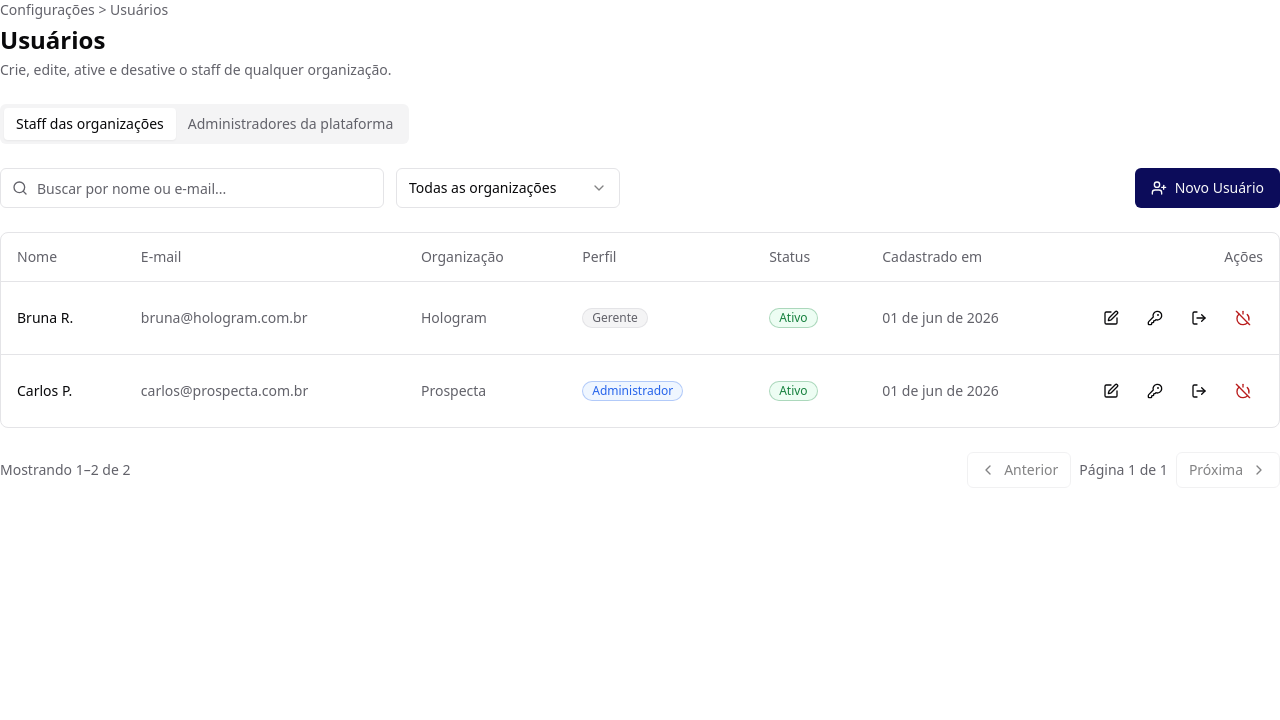
Test: Redefinir senha (86e3ewukz) — só a plataforma › senha curta para staff é barrada no formulário (mínimo 8)
Click the button named "Redefinir senha de Bruna R.": (1155, 318) left=1135, top=298, right=1175, bottom=338
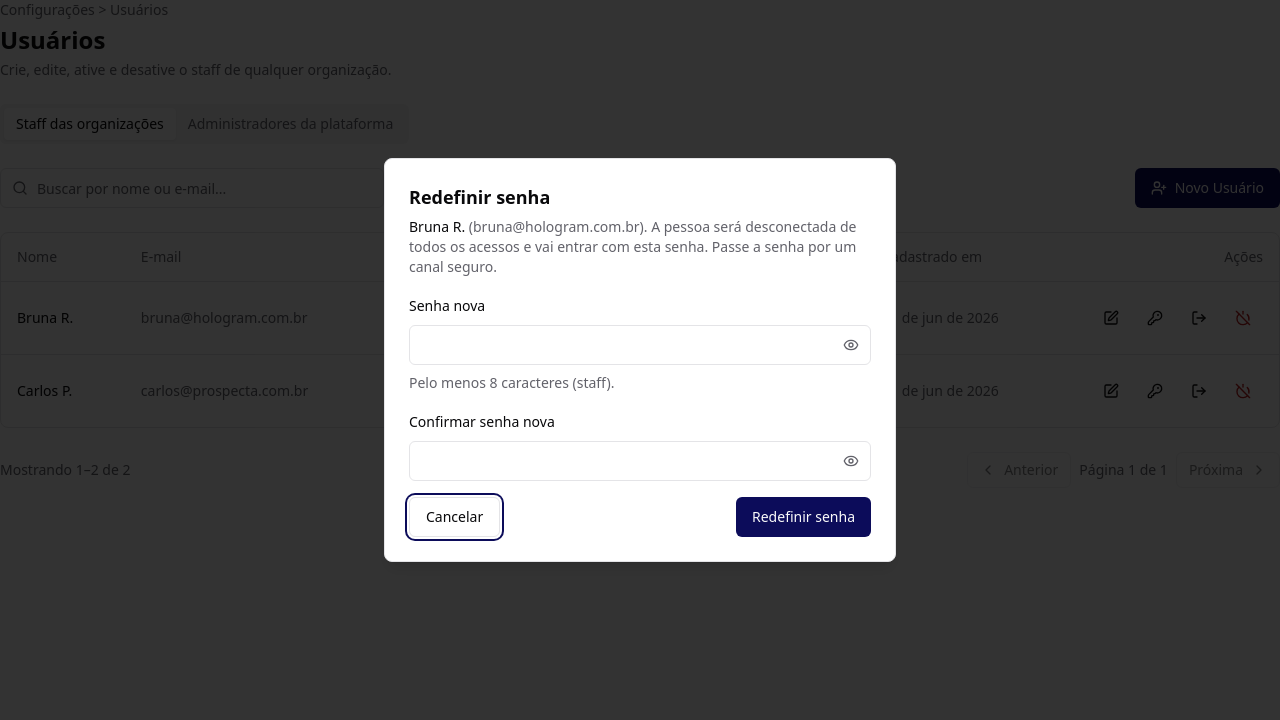
In the password field labelled "Senha nova": (640, 345) left=409, top=325, right=871, bottom=365, type "1234567"
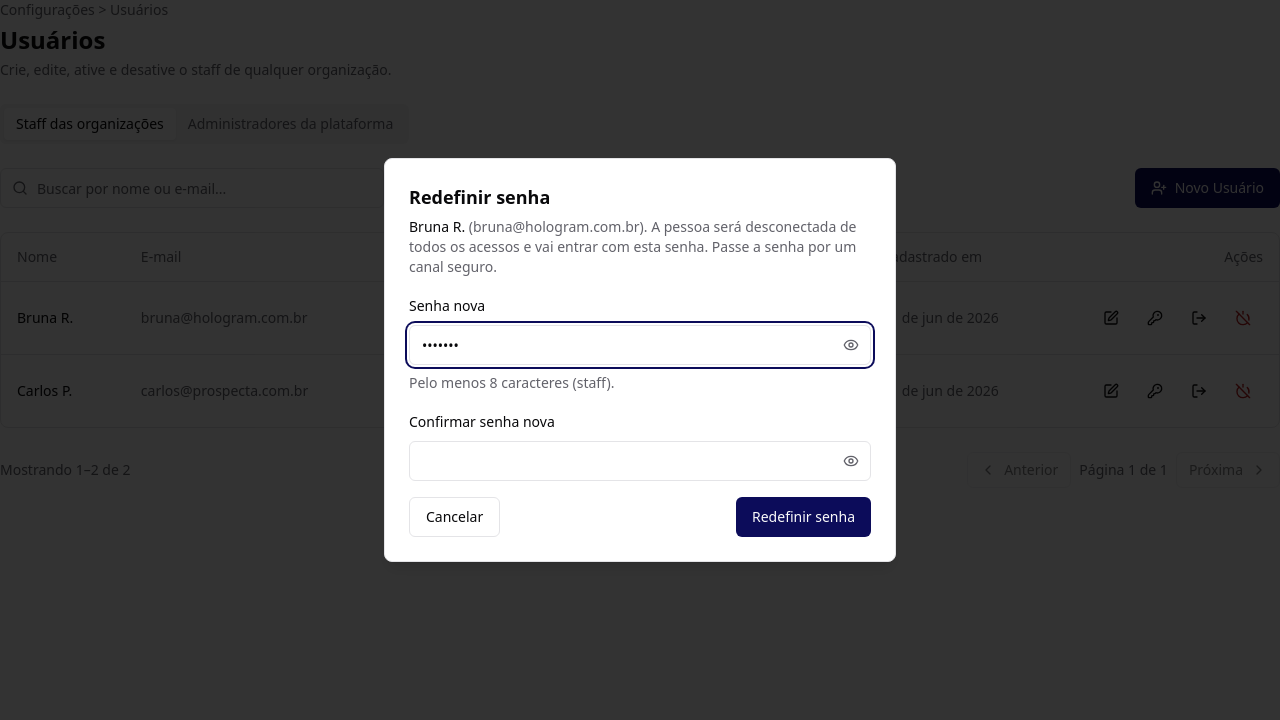
In the password field labelled "Confirmar senha nova": (640, 461) left=409, top=441, right=871, bottom=481, type "1234567"
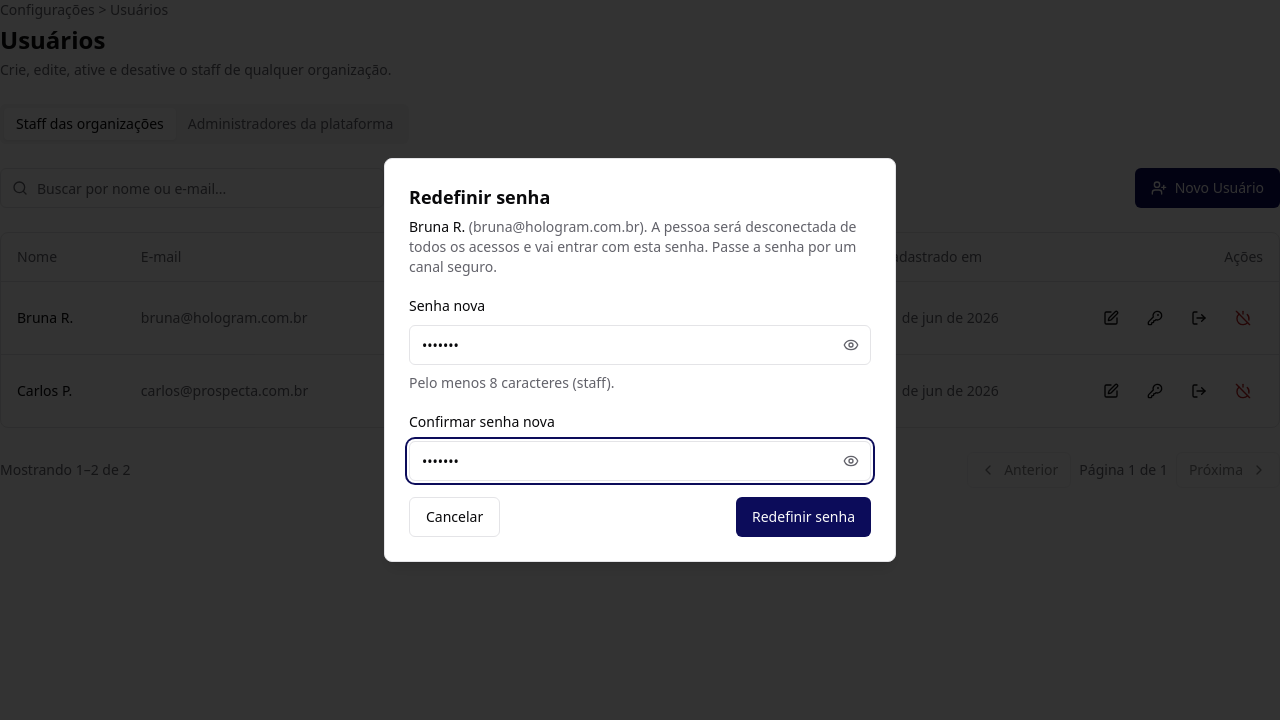
Click the button "Redefinir senha": (804, 517) left=736, top=497, right=871, bottom=537
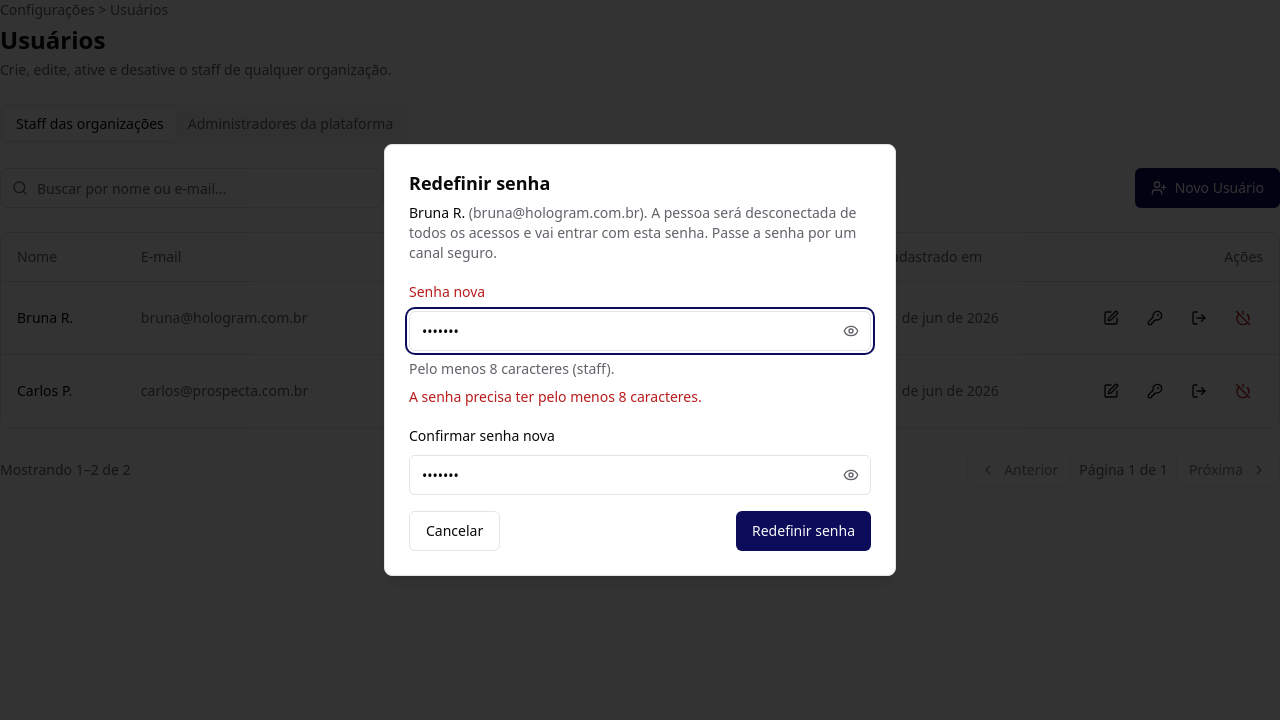
expect the text "A senha precisa ter pelo menos 8 caracteres." is shown: met, box left=409, top=387, right=702, bottom=406
